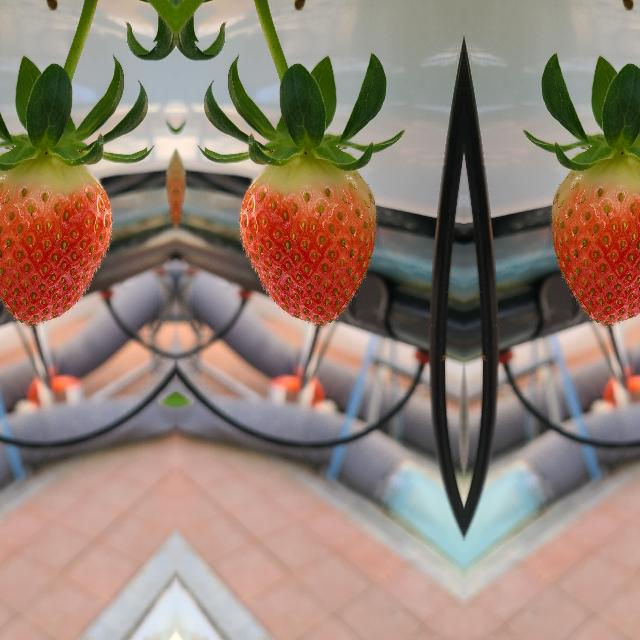Health_100: (236, 156, 378, 327), (0, 155, 113, 326), (548, 155, 640, 326)
